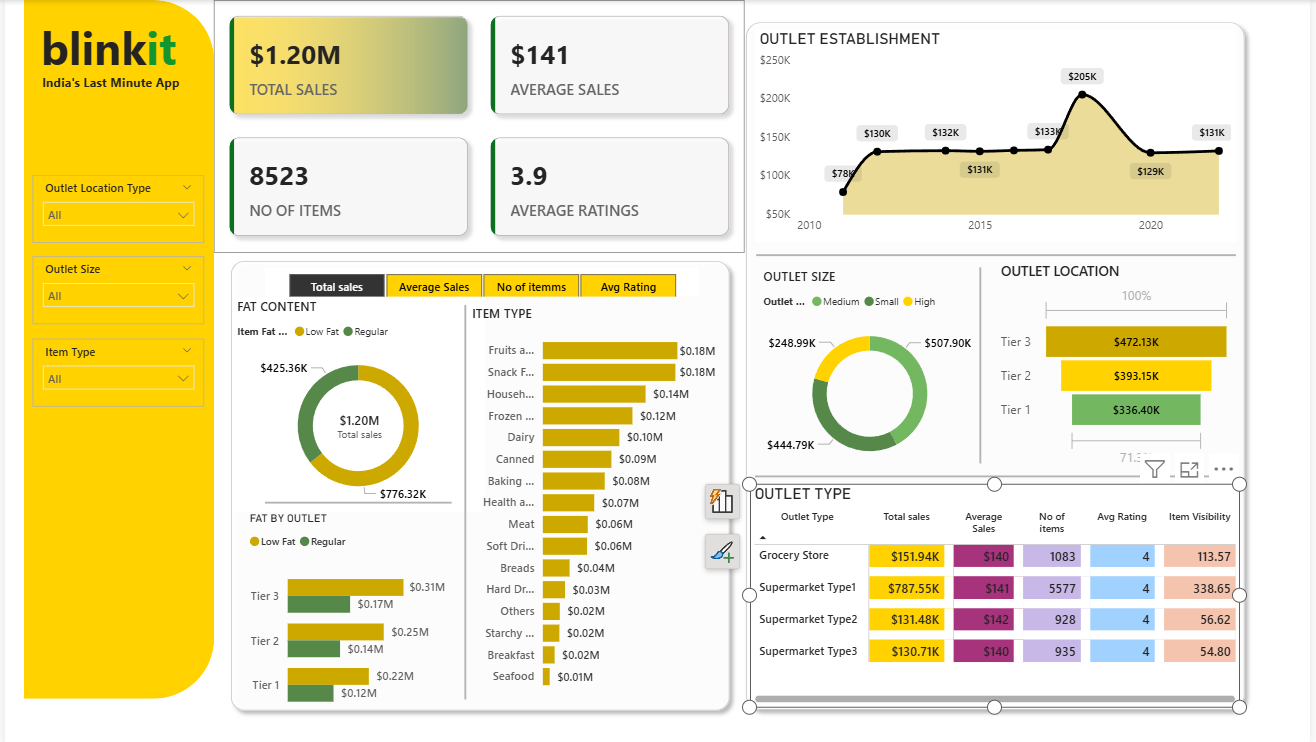

The page's visual inventory and layout, read from the dashboard file:
{"tool":"powerbi","page":{"name":"Page 1","canvas":[1400,800],"ordinal":0},"visuals":[{"type":"shape","box":[19.5,0,204.4,749.5],"z":0},{"type":"textbox","box":[29.6,14,163.3,74.7],"z":1000},{"type":"textbox","box":[34.2,73.1,158.7,29.6],"z":2000},{"type":"cardVisual","fields":{"Data":["BlinkIT Grocery Data.Total sales","BlinkIT Grocery Data.Average Sales","BlinkIT Grocery Data.No of itemms","BlinkIT Grocery Data.Avg Rating"]},"box":[223.9,0,570.4,270.6],"z":3000},{"type":"shape","box":[233.6,270.6,552.8,500.3],"z":4000},{"type":"donutChart","title":"FAT CONTENT","fields":{"Y":["BlinkIT Grocery Data.Total sales"],"Category":["BlinkIT Grocery Data.Item Fat Content"]},"box":[244.3,318.6,270,230],"z":5000},{"type":"slicer","fields":{"Values":["Metrics.Metrics"]},"box":[278.8,287.5,465,31.2],"z":6000},{"type":"cardVisual","fields":{"Data":["BlinkIT Grocery Data.Total sales"]},"box":[315.7,418.6,128.6,78.6],"z":7000},{"type":"clusteredBarChart","title":"FAT BY OUTLET","fields":{"Y":["BlinkIT Grocery Data.Total sales"],"Category":["BlinkIT Grocery Data.Outlet Location Type"],"Series":["BlinkIT Grocery Data.Item Fat Content"]},"box":[257.1,548.6,220,230],"z":8000},{"type":"shape","box":[278.6,525.7,200,27.1],"z":9000},{"type":"shape","box":[477.1,327.1,32.9,422.9],"z":10000},{"type":"barChart","title":"ITEM TYPE","fields":{"Y":["BlinkIT Grocery Data.Total sales"],"Category":["BlinkIT Grocery Data.Item Type"]},"box":[496.2,327.5,271.2,422.5],"z":11000},{"type":"shape","box":[785.7,14.3,552.9,755.7],"z":12000},{"type":"shape","box":[805.7,260,514.3,27.1],"z":13000},{"type":"donutChart","title":"OUTLET SIZE","fields":{"Y":["BlinkIT Grocery Data.Total sales"],"Category":["BlinkIT Grocery Data.Outlet Size"]},"box":[808.6,287.1,238.6,225.7],"z":14000},{"type":"shape","box":[1030,287.1,32.9,210],"z":15000},{"type":"funnel","title":"OUTLET LOCATION","fields":{"Y":["BlinkIT Grocery Data.Total sales"],"Category":["BlinkIT Grocery Data.Outlet Location Type"]},"box":[1062.9,280,257.1,225.7],"z":16000},{"type":"shape","box":[804.3,497.1,514.3,27.1],"z":17000},{"type":"pivotTable","title":"OUTLET TYPE","fields":{"Rows":["BlinkIT Grocery Data.Outlet Type"],"Values":["BlinkIT Grocery Data.Total sales","BlinkIT Grocery Data.Average Sales","BlinkIT Grocery Data.No of itemms","BlinkIT Grocery Data.Avg Rating","Sum(BlinkIT Grocery Data.Item Visibility)"]},"box":[798.6,518.6,525.7,240],"z":18000},{"type":"lineChart","title":"OUTLET ESTABLISHMENT","fields":{"Y":["BlinkIT Grocery Data.Total sales"],"Category":["BlinkIT Grocery Data.Outlet Establishment Year"]},"box":[804.3,31.4,515.7,228.6],"z":19000},{"type":"slicer","fields":{"Values":["BlinkIT Grocery Data.Outlet Location Type"]},"box":[30,187.1,184.3,72.9],"z":20000},{"type":"slicer","fields":{"Values":["BlinkIT Grocery Data.Outlet Size"]},"box":[30,274.3,184.3,72.9],"z":21000},{"type":"slicer","fields":{"Values":["BlinkIT Grocery Data.Item Type"]},"box":[30,362.9,184.3,72.9],"z":22000}]}

Visuals, with their boxes in screenshot pixels (x1, y1, x2, y2), scaled from the page's 1400x800 canvas onto the 1316x742 screenshot:
shape: bbox=[18, 0, 210, 695]
textbox: bbox=[28, 13, 181, 82]
textbox: bbox=[32, 68, 181, 95]
cardVisual - BlinkIT Grocery Data.Total sales x BlinkIT Grocery Data.Average Sales: bbox=[210, 0, 747, 251]
shape: bbox=[220, 251, 739, 715]
"FAT CONTENT" donutChart: bbox=[230, 296, 483, 509]
slicer - Metrics.Metrics: bbox=[262, 267, 699, 296]
cardVisual - BlinkIT Grocery Data.Total sales: bbox=[297, 388, 418, 461]
"FAT BY OUTLET" clusteredBarChart: bbox=[242, 509, 448, 722]
shape: bbox=[262, 488, 450, 513]
shape: bbox=[448, 303, 479, 696]
"ITEM TYPE" barChart: bbox=[466, 304, 721, 696]
shape: bbox=[739, 13, 1258, 714]
shape: bbox=[757, 241, 1241, 266]
"OUTLET SIZE" donutChart: bbox=[760, 266, 984, 476]
shape: bbox=[968, 266, 999, 461]
"OUTLET LOCATION" funnel: bbox=[999, 260, 1241, 469]
shape: bbox=[756, 461, 1239, 486]
"OUTLET TYPE" pivotTable: bbox=[751, 481, 1245, 704]
"OUTLET ESTABLISHMENT" lineChart: bbox=[756, 29, 1241, 241]
slicer - BlinkIT Grocery Data.Outlet Location Type: bbox=[28, 174, 201, 241]
slicer - BlinkIT Grocery Data.Outlet Size: bbox=[28, 254, 201, 322]
slicer - BlinkIT Grocery Data.Item Type: bbox=[28, 337, 201, 404]
